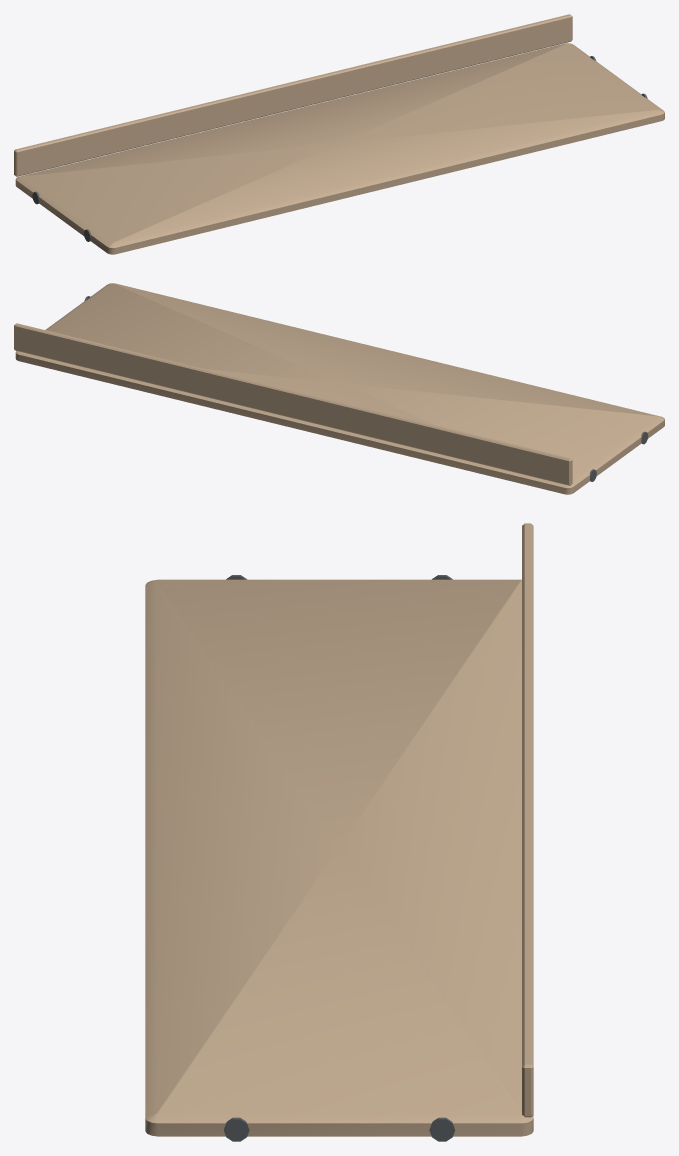
File: home-appliances-and-utility-utility-worktop-run-2m-ab45300c__14167.glb
The picture shows the model from 3 angles, top to bottom: view 1: azimuth 30°, elevation 25°; view 2: azimuth 150°, elevation 25°; view 3: azimuth 270°, elevation 25°; orthographic projection. The views are drawn at different scales.
Visible parts, largest first — view 1: utility-worktop-run-2m; view 2: utility-worktop-run-2m; view 3: utility-worktop-run-2m.
Part boxes in pixels (left/top/right/bottom): utility-worktop-run-2m: left=14, top=14, right=664, bottom=254; utility-worktop-run-2m: left=14, top=283, right=664, bottom=494; utility-worktop-run-2m: left=145, top=523, right=533, bottom=1141.
Size of the model in its own units: 2 by 0.1299 by 0.6041.
